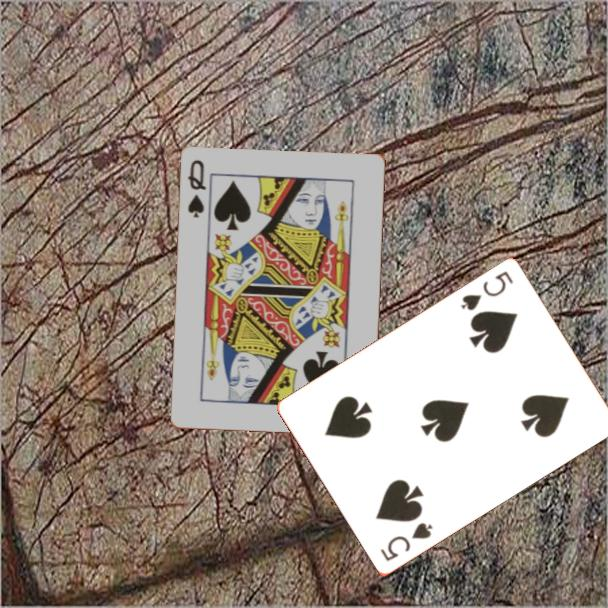s05: (457, 267, 516, 313), (377, 518, 436, 564)
s12: (185, 157, 209, 221)
